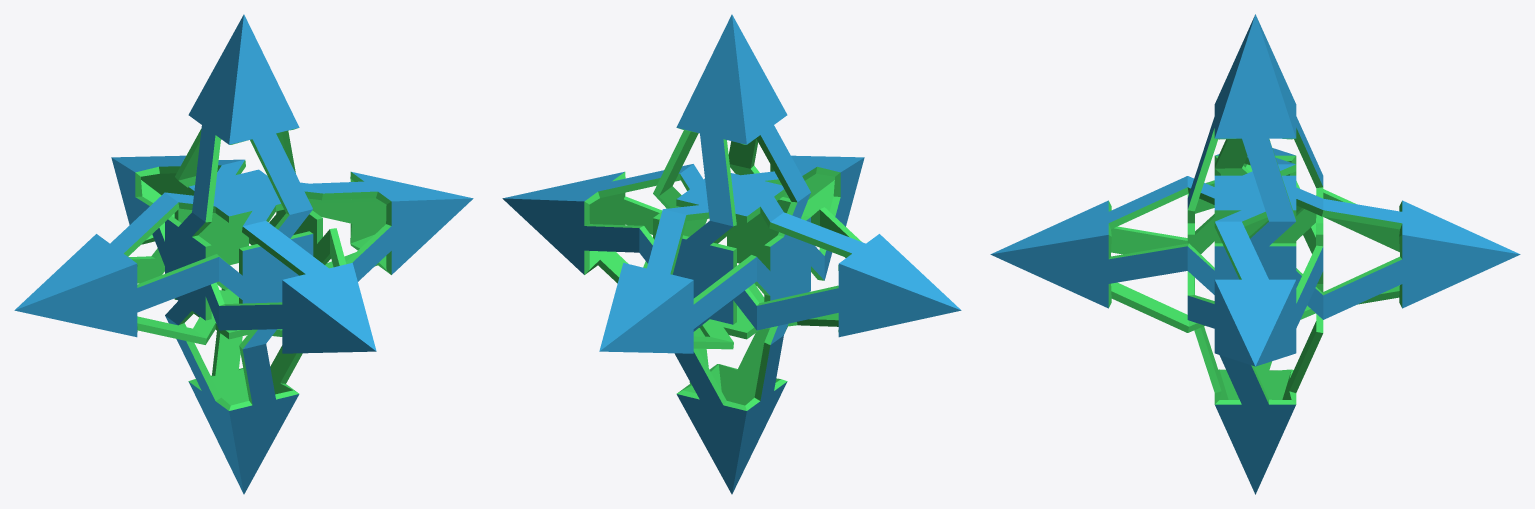
Rendered from PolyknotCube.glb.
3 renders of one model, left to right at view 1: azimuth 30°, elevation 25°; view 2: azimuth 150°, elevation 25°; view 3: azimuth 270°, elevation 25°, orthographic.
Visible parts, largest first — view 1: OK_ESCHER_20_P3_1Augmented_Subdivided_Cube; view 2: OK_ESCHER_20_P3_1Augmented_Subdivided_Cube; view 3: OK_ESCHER_20_P3_1Augmented_Subdivided_Cube.
Part boxes in pixels (box(x1,y1,x2,y2)): OK_ESCHER_20_P3_1Augmented_Subdivided_Cube: box(14, 14, 473, 494); OK_ESCHER_20_P3_1Augmented_Subdivided_Cube: box(502, 14, 961, 494); OK_ESCHER_20_P3_1Augmented_Subdivided_Cube: box(990, 14, 1520, 494).
Bounding box in the file's own units: 184 × 184 × 184.
